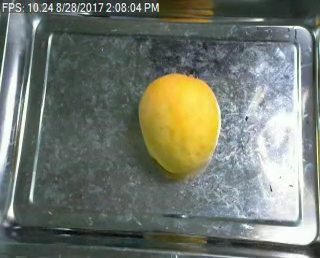Mango: (129, 69, 230, 175)
